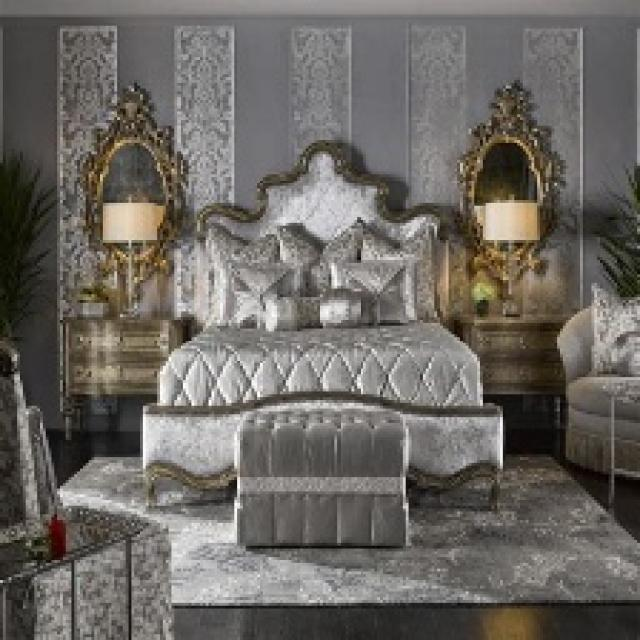Bed: (140, 137, 497, 509)
